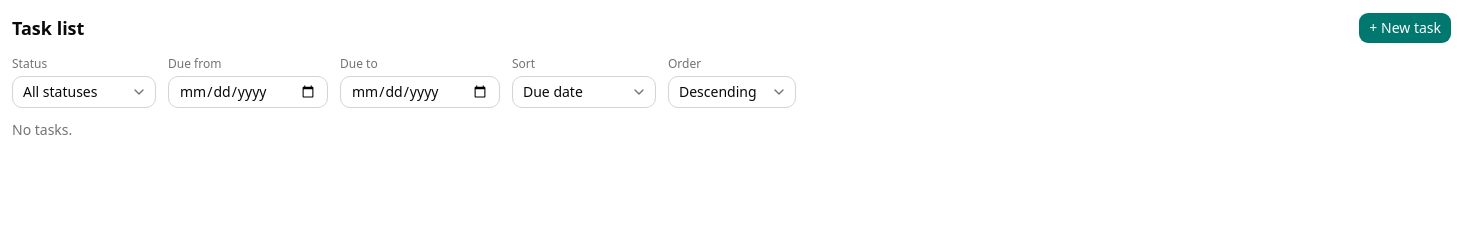
Test case: ProjectTaskList › toggles the create form via '+ New task'
Expected: the field labelled "Title" is not shown
Click the button "+ New task" at (1405, 28), box x1=1358 y1=12 x2=1452 y2=44
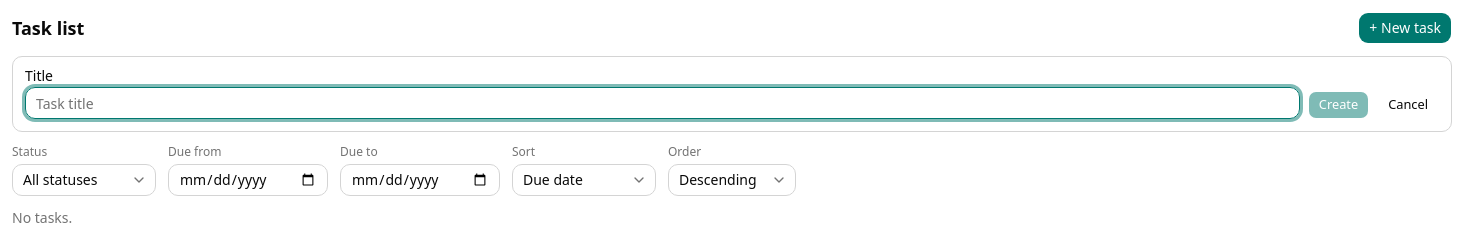
Result: the field labelled "Title" is shown at x1=25 y1=87 x2=1300 y2=119
